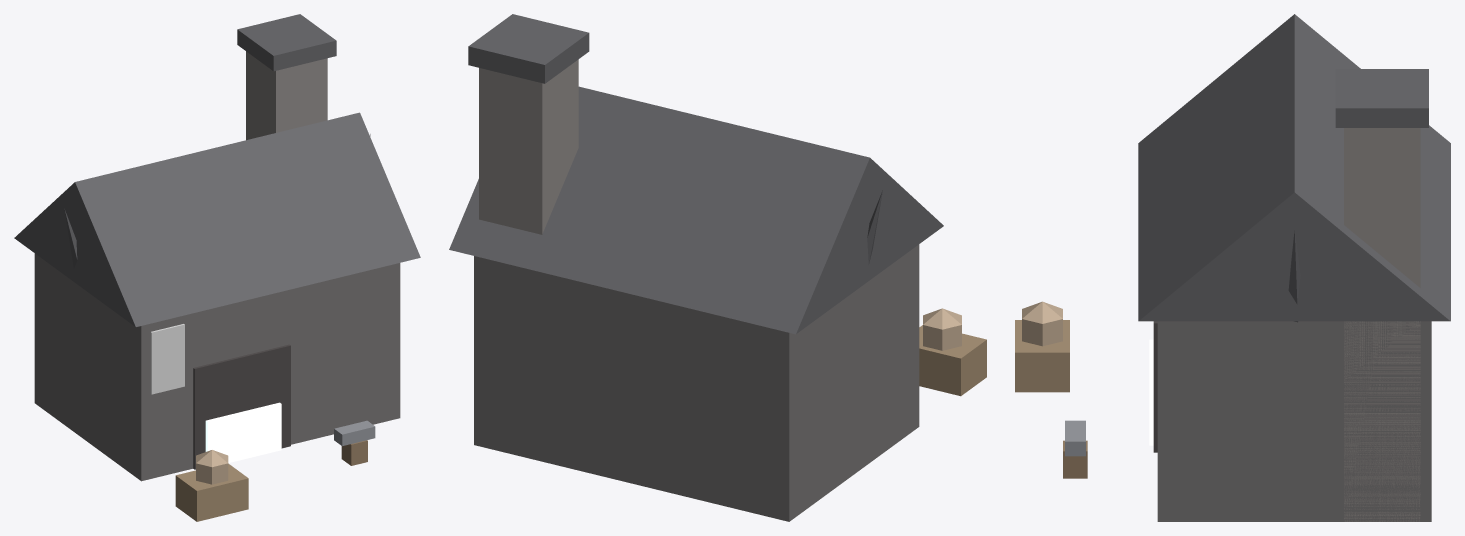
3 renders of one model, left to right at view 1: azimuth 30°, elevation 25°; view 2: azimuth 150°, elevation 25°; view 3: azimuth 270°, elevation 25°, orthographic. The views are drawn at different scales.
Visible parts, largest first — view 1: body; view 2: body; view 3: body.
Boxes of the visible parts, x1,y1,x2,y2 form: body: (14,14,420,521); body: (449,14,986,521); body: (1015,14,1450,521).
Size of the model in its own units: 8.28 by 8.4 by 7.95.
